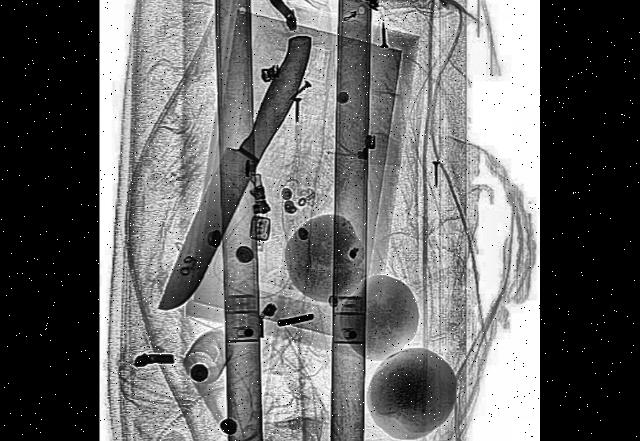Knife: (147, 17, 322, 330)
